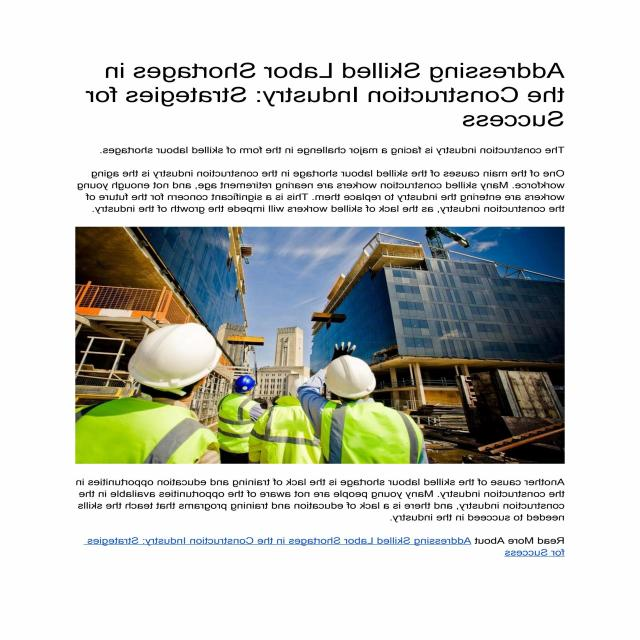Reflective-Jacket: (73, 400, 217, 466), (317, 400, 427, 464), (251, 397, 324, 463), (214, 393, 254, 451)
Safety-Helmet: (125, 320, 225, 389), (320, 352, 378, 400), (233, 374, 258, 392)
